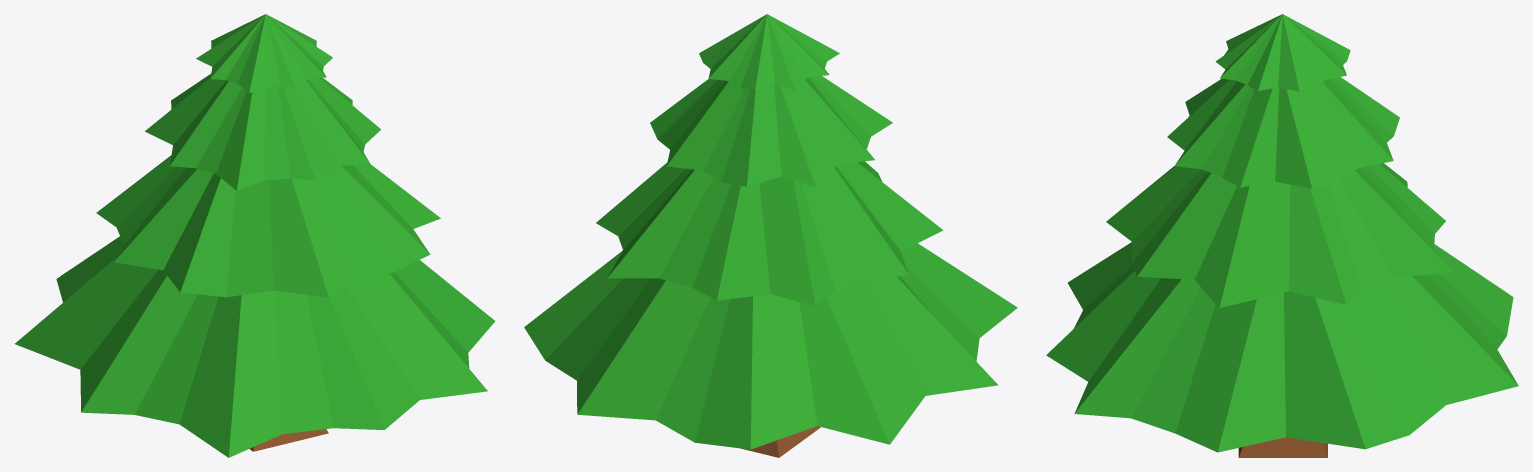
File: Tree2.glb
The picture shows the model from 3 angles, left to right: view 1: azimuth 30°, elevation 25°; view 2: azimuth 150°, elevation 25°; view 3: azimuth 270°, elevation 25°; orthographic projection. The views are drawn at different scales.
Visible parts, largest first — view 1: Circle.003; view 2: Circle.003; view 3: Circle.003.
Boxes of the visible parts, x1,y1,x2,y2 form: Circle.003: [15, 14, 495, 457]; Circle.003: [524, 14, 1017, 457]; Circle.003: [1046, 14, 1518, 457].
Size of the model in its own units: 2.09 by 2.03 by 2.06.
Materials: 1 (1 with a texture image).
